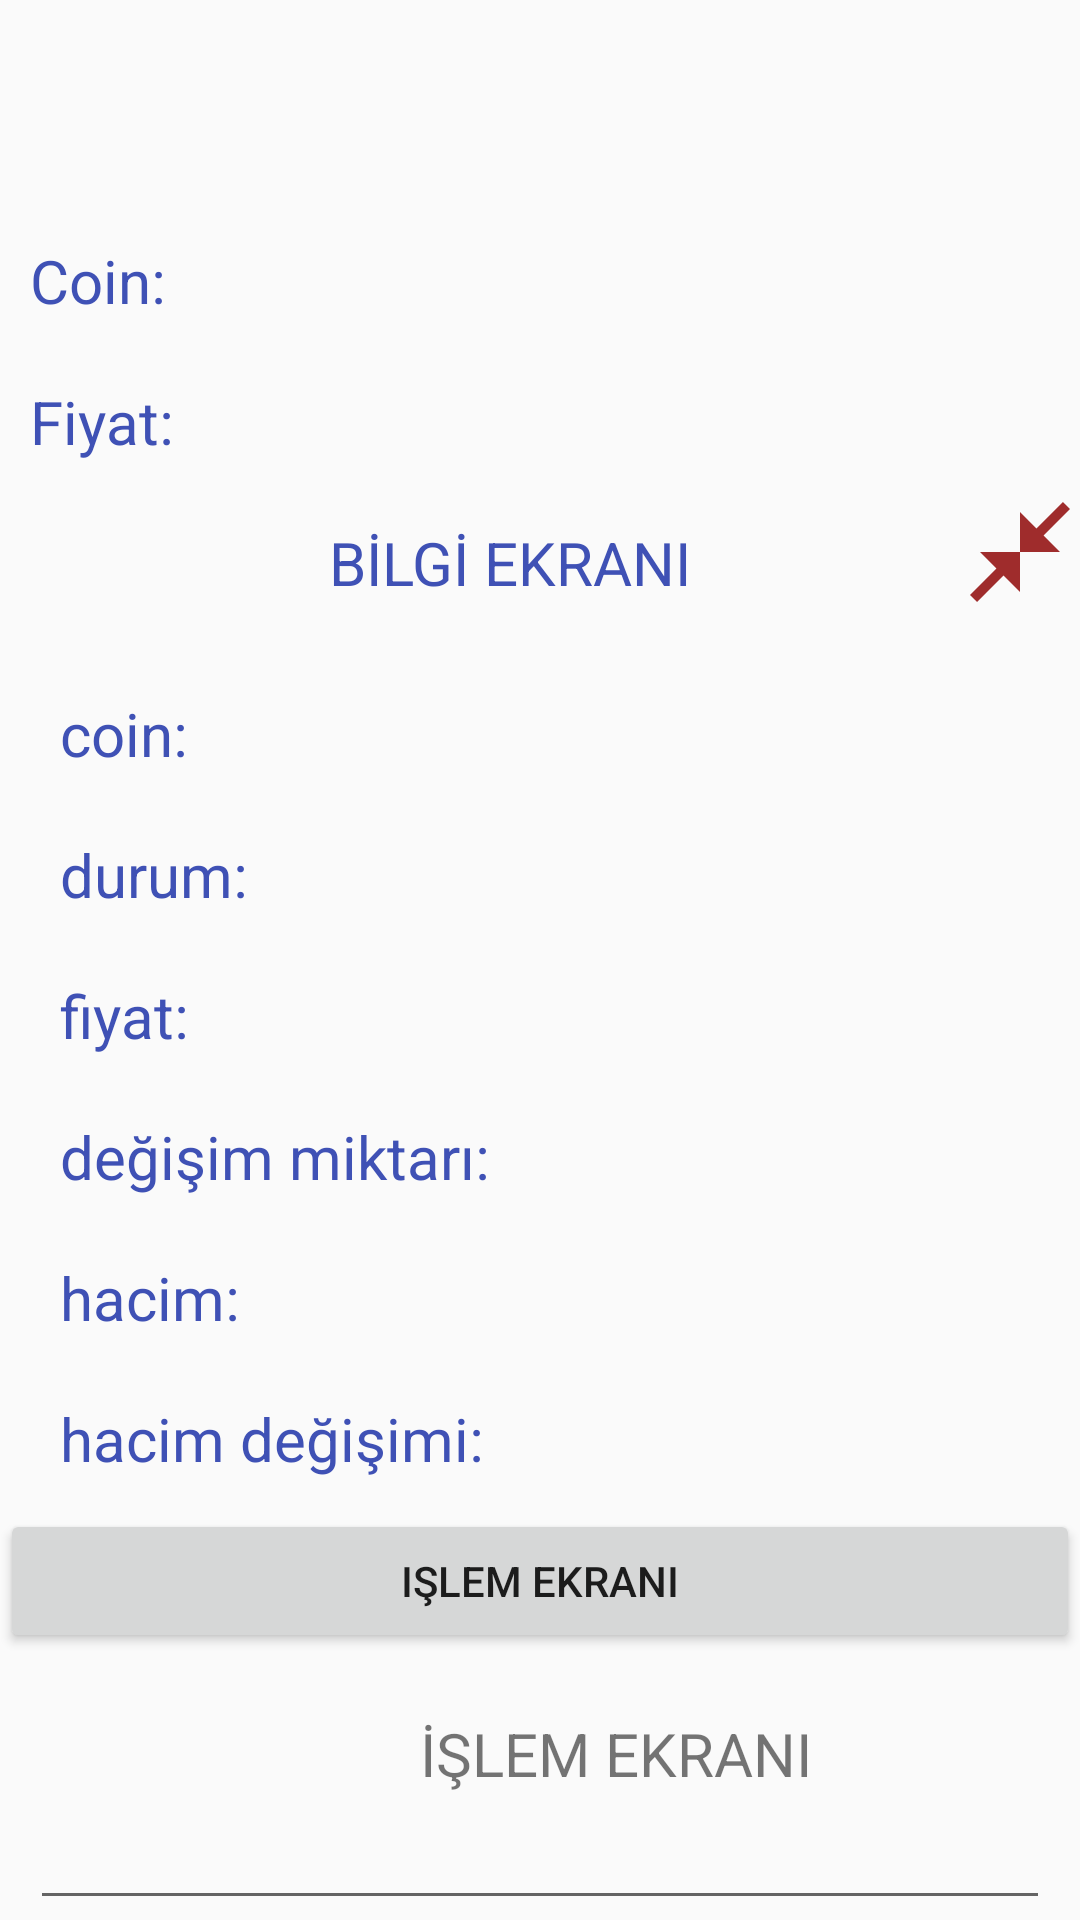

Icons on this 1080px x 1920px Android screen, each with its box as (x1, y1, x2, y2):
close fullscreen: (970, 502, 1070, 602)
